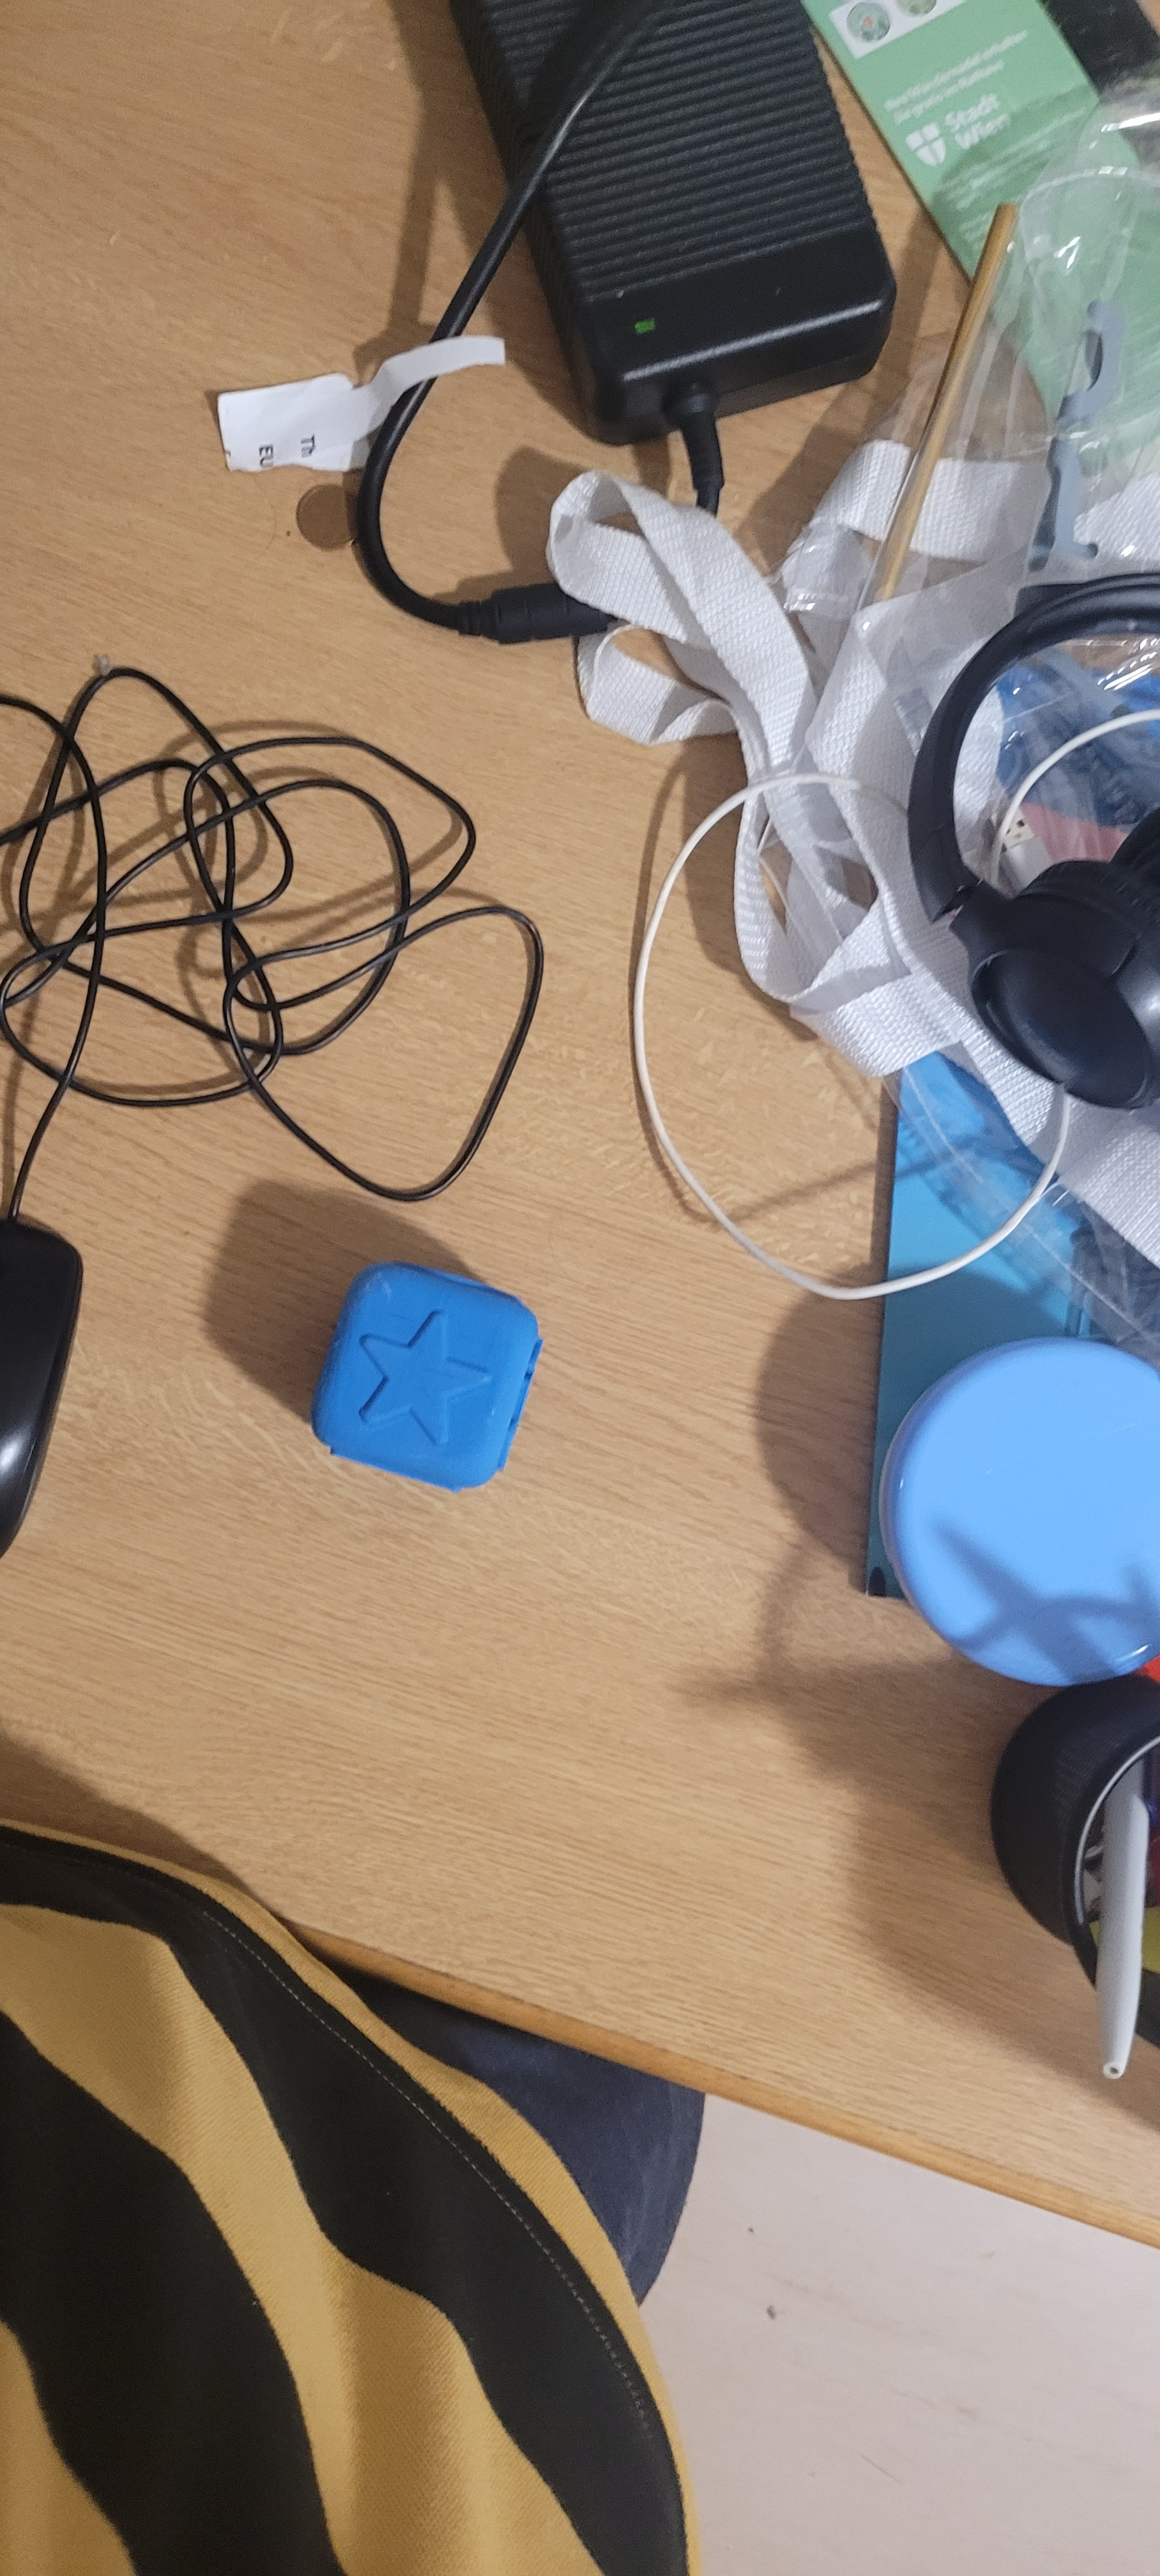Star: (330, 1235, 526, 1464)
